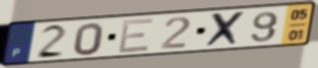0: (70, 21, 106, 57)
2: (32, 24, 71, 60), (159, 15, 192, 50)
9: (249, 11, 280, 43)
E: (116, 17, 156, 55)
X: (202, 9, 248, 49)
